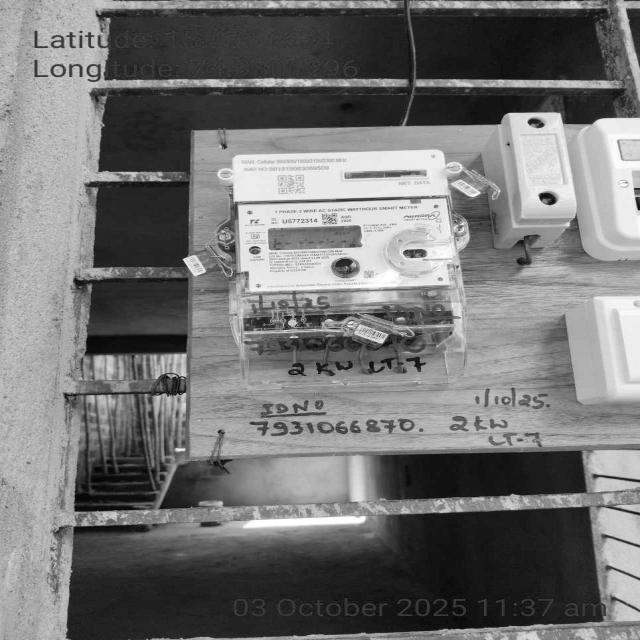meter: (232, 157, 461, 289)
